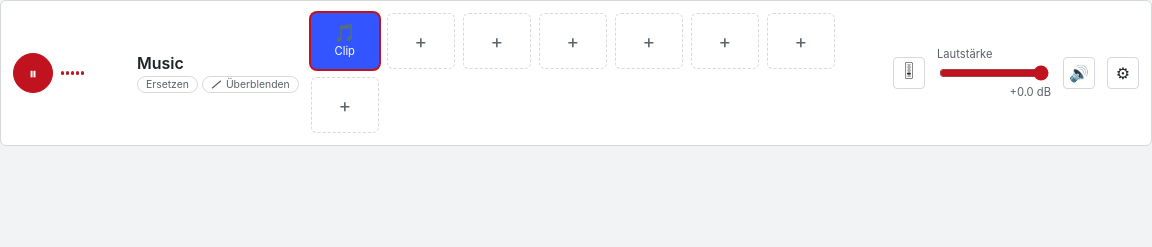
M15-S14 ChannelRow › balance + 3-band EQ — collapsed behind a toggle button › are enabled when no active clip on the channel is a link
Click the button named "Balance & EQ" at (909, 73), box [893,57,925,89]
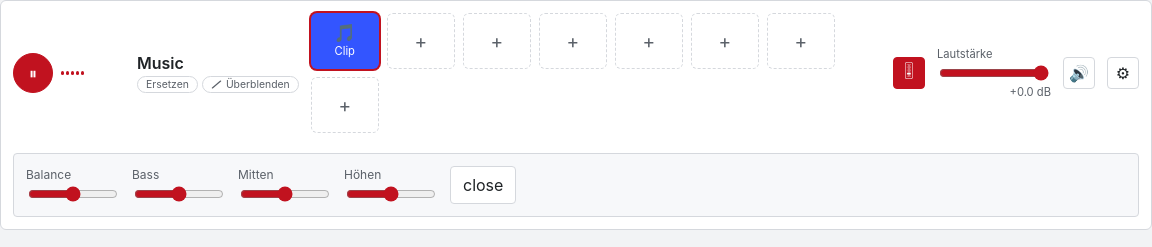
Check: the slider labelled "Balance" is enabled, box [28,186,118,202]
Check: the slider labelled "Bass" is enabled, box [134,186,224,202]
